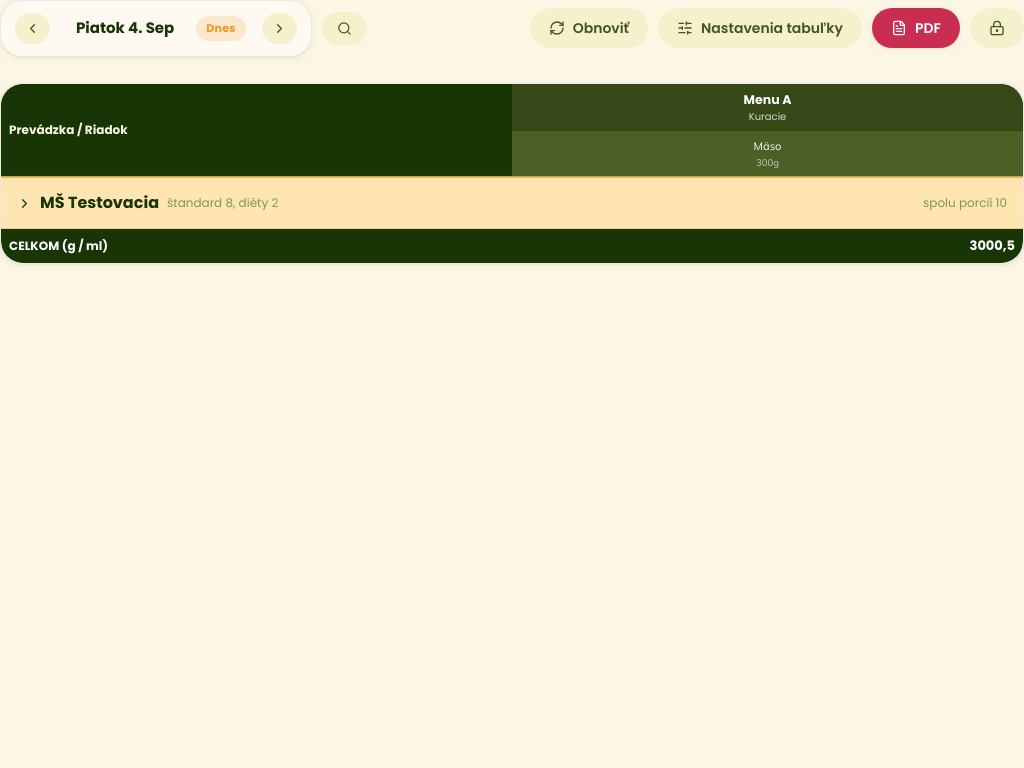
Test: Nastavenia tabuľky (2.9.2026) › turning off 'Zobraziť sumáre klastrov' sends cluster_summary=0 and hides the diet-per-cluster section
This screenshot has width=1024, height=768.
Click the button "Nastavenia tabuľky": x=760, y=28 658,8 -> 862,48
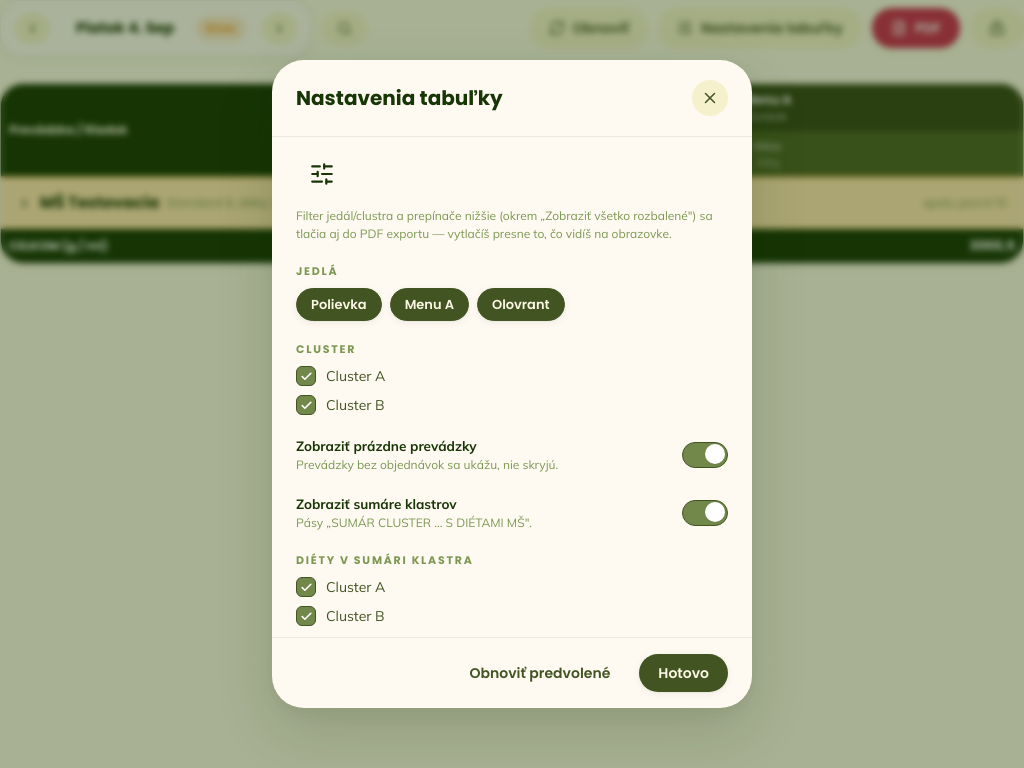
Expected: the text "Diéty v sumári klastra" is shown, 296,552 -> 474,568
Click the button named "Zobraziť sumáre klastrov": x=705, y=513 682,500 -> 728,526
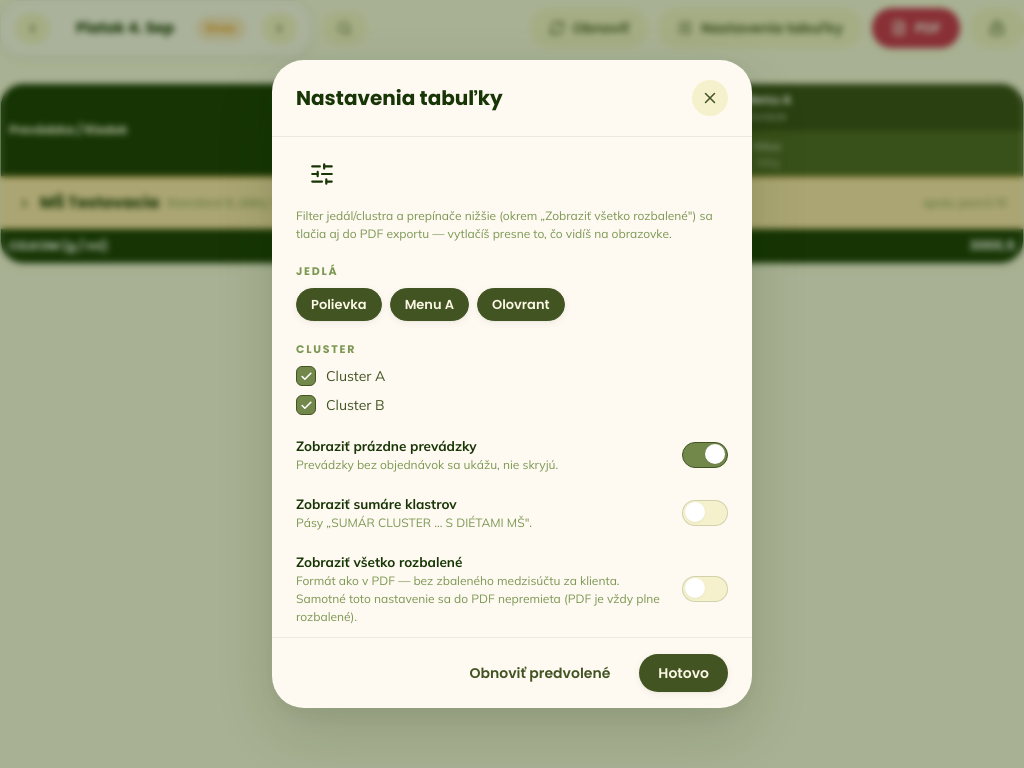
Expected: the text "Diéty v sumári klastra" is gone
